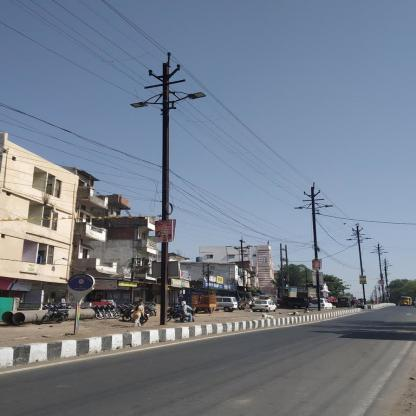Electrical Pole: (128, 51, 213, 326)
